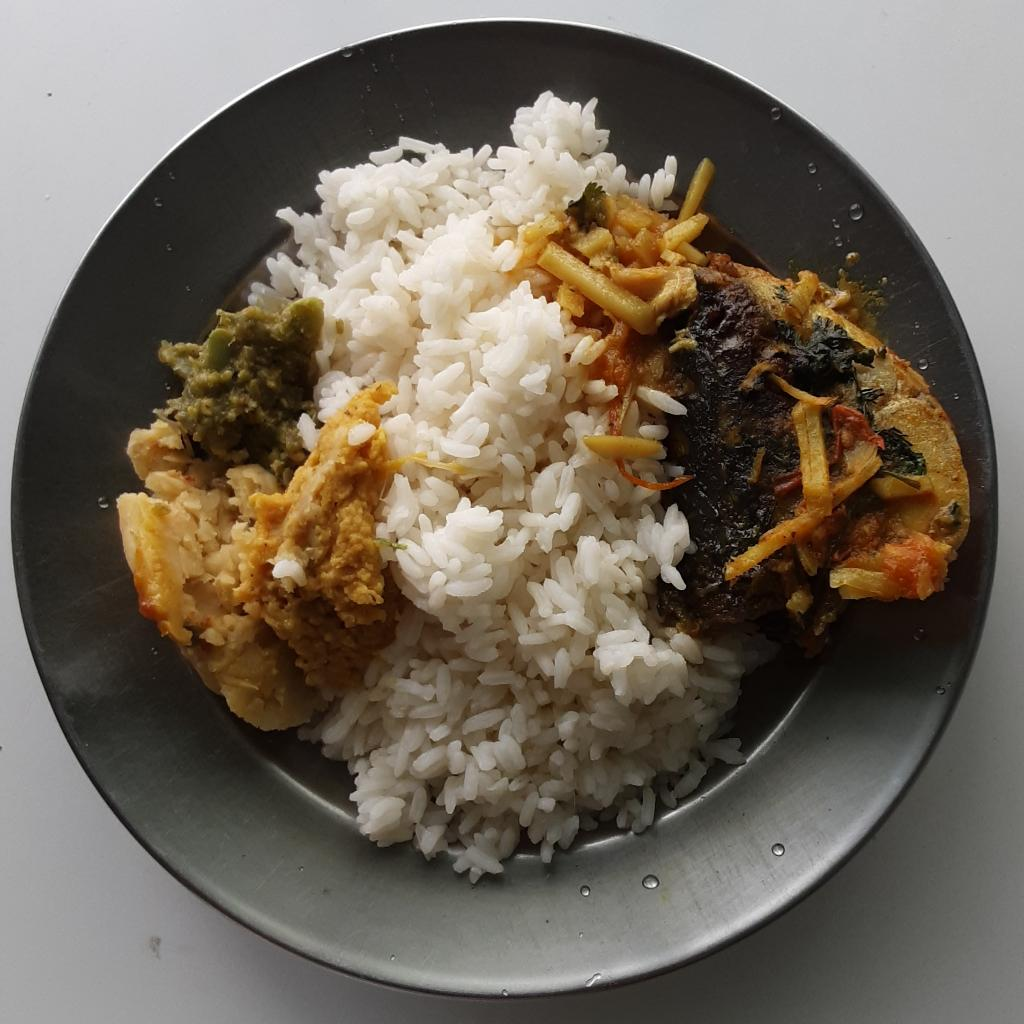daal: (246, 367, 393, 702)
fish: (653, 244, 970, 651)
potato: (118, 420, 323, 728), (719, 386, 936, 595), (549, 158, 727, 371)
rice: (245, 81, 781, 885)
shim: (154, 299, 323, 461)
